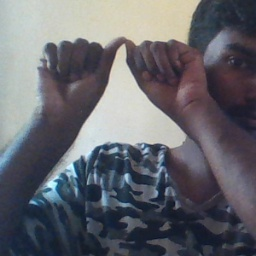A: (34, 37, 207, 118)
